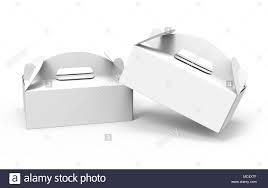Cardboard: (11, 18, 268, 143)
